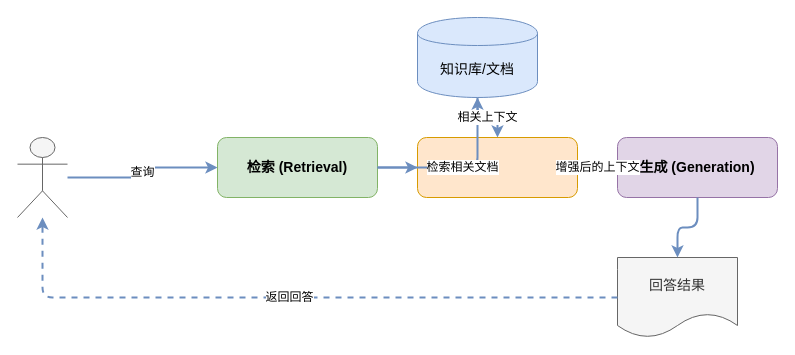
The diagram is 795 pixels wide and 355 high, and some of its shapes have lost their labels. Each missing label, with the box of its shape:
增强 (Augmentation): (416, 136, 578, 198)
用户: (16, 136, 68, 218)
